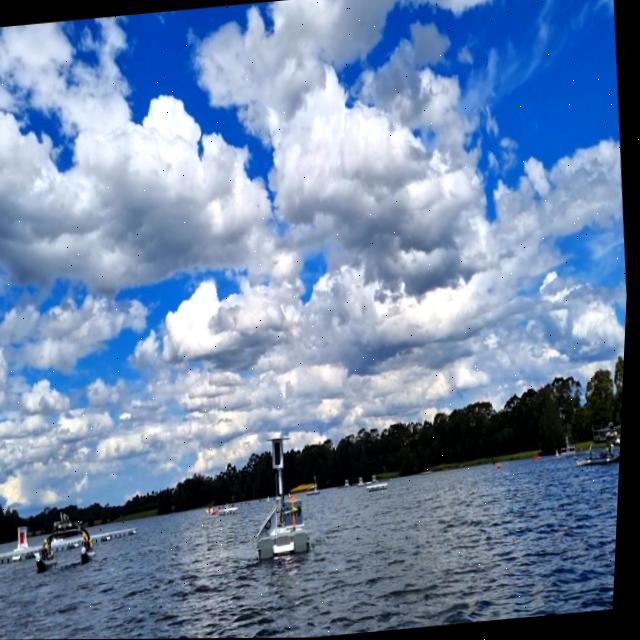led: (276, 440, 287, 467)
